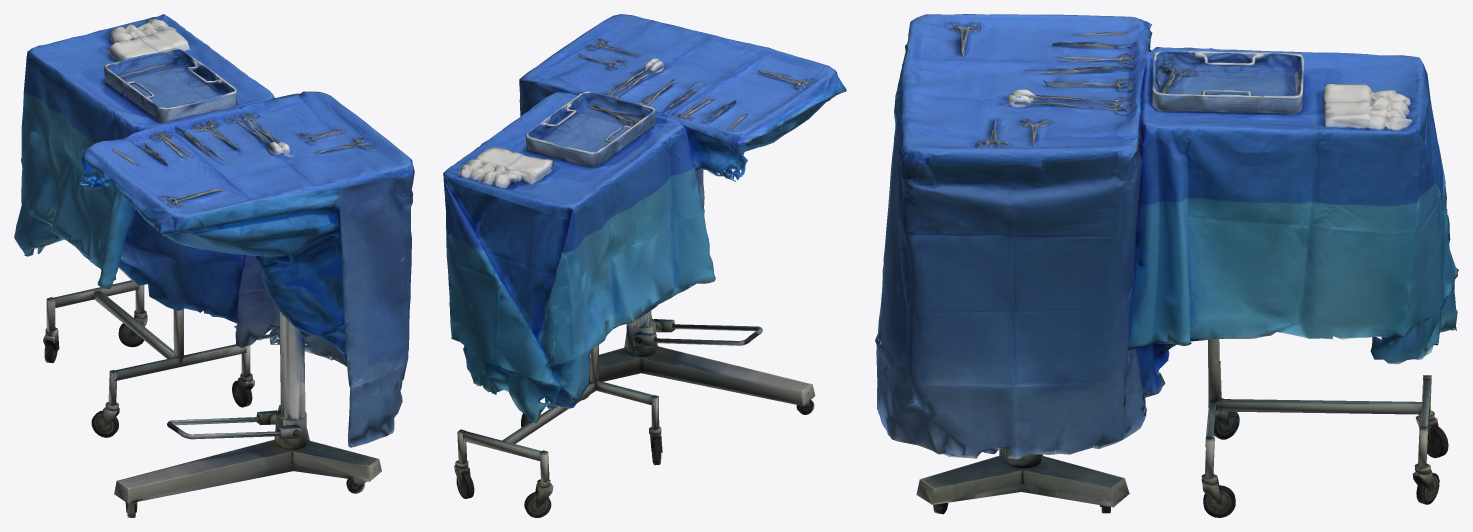
The model's file is table_sterile_2.glb.
The picture shows the model from 3 angles, left to right: view 1: azimuth 30°, elevation 25°; view 2: azimuth 150°, elevation 25°; view 3: azimuth 270°, elevation 25°; orthographic projection. The views are drawn at different scales.
Visible parts, largest first — view 1: Object_4; view 2: Object_4; view 3: Object_4.
Part boxes in pixels (box(x1,y1,x2,y2)): Object_4: box(14, 14, 414, 517); Object_4: box(443, 14, 846, 517); Object_4: box(875, 14, 1458, 517).
Bounding box in the file's own units: 0.772 × 0.9762 × 1.27.
1 material, 1 textured.
